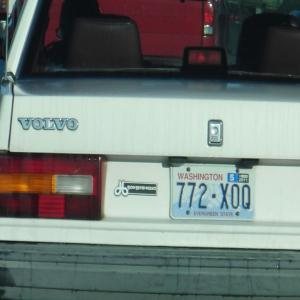Vehicle-registration-plate: (174, 165, 260, 231)
